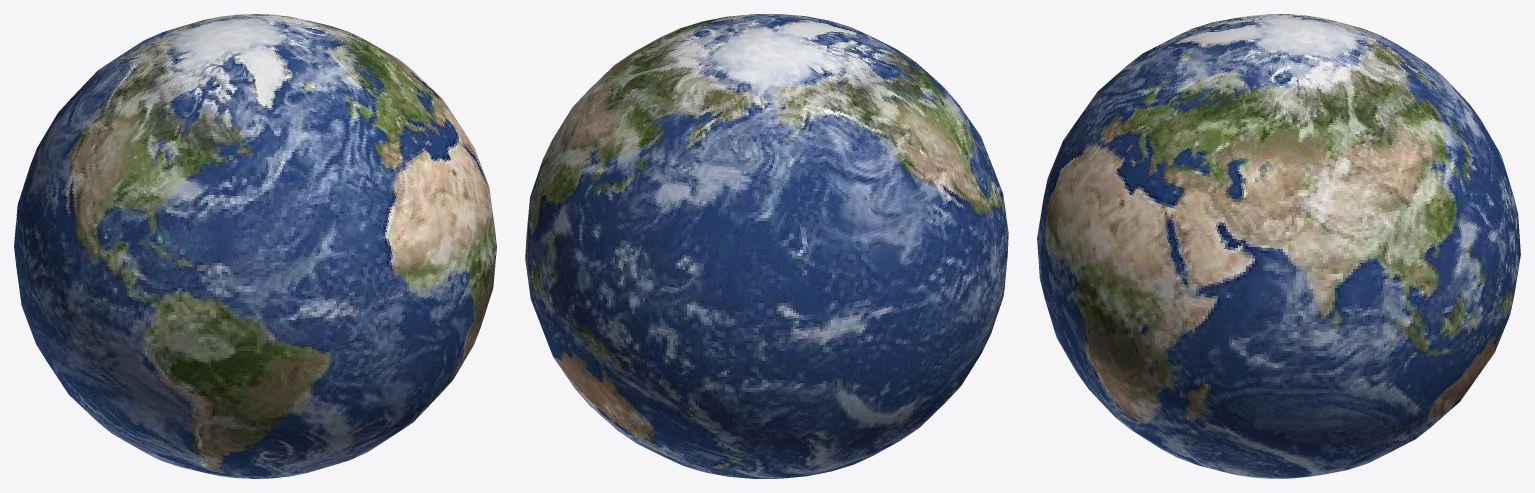
Rendered from earth.glb.
3 views of the same model, side by side, from view 1: azimuth 30°, elevation 25°; view 2: azimuth 150°, elevation 25°; view 3: azimuth 270°, elevation 25° (orthographic).
Visible parts, largest first — view 1: earth_Earth_0; view 2: earth_Earth_0; view 3: earth_Earth_0.
Part boxes in pixels (box(x1,y1,x2,y2)): earth_Earth_0: box(14, 14, 496, 478); earth_Earth_0: box(525, 14, 1008, 478); earth_Earth_0: box(1037, 14, 1520, 478).
Bounding box in the file's own units: 12.77 × 12.18 × 12.76.
1 material, 1 textured.
